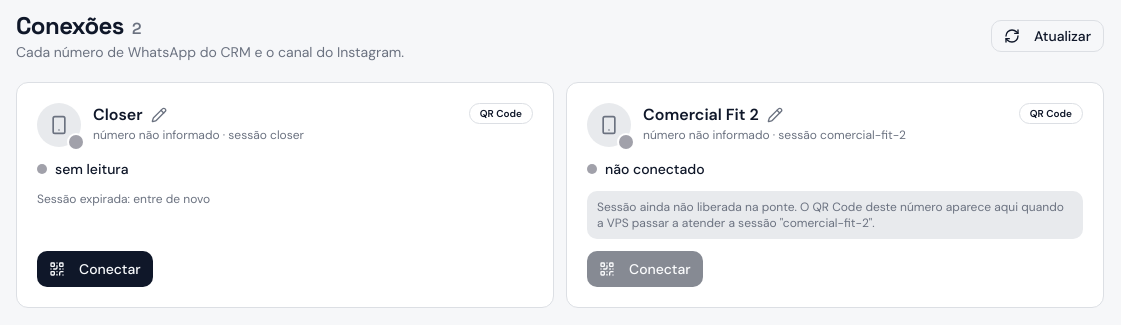
Test: /crm/conexoes: lápis no nome do cartão › edita inline, salva com Enter, atualiza o cartão e avisa Conversas
The image size is (1121, 325).
Click the button named "Editar nome de Comercial Fit 2": (775, 115) [763,103,787,127]
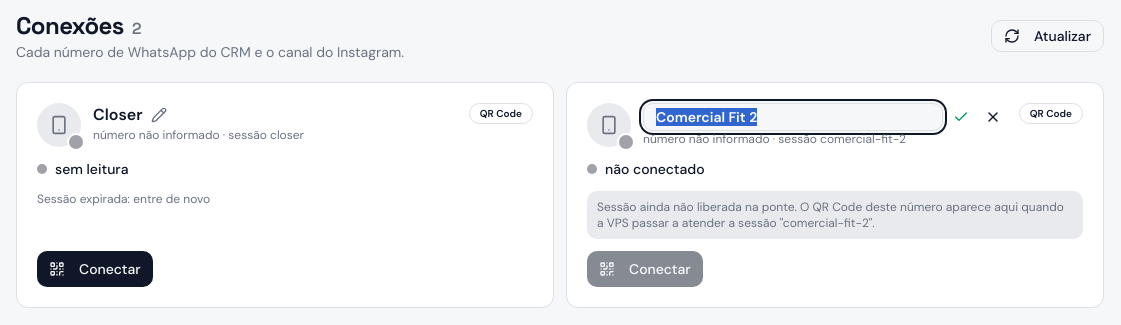
Expected: the field named "Nome do número" holds "Comercial Fit 2"
Replace the text in the field named "Nome do número" with "Vendas Fit": (793, 117) [643,103,943,131]
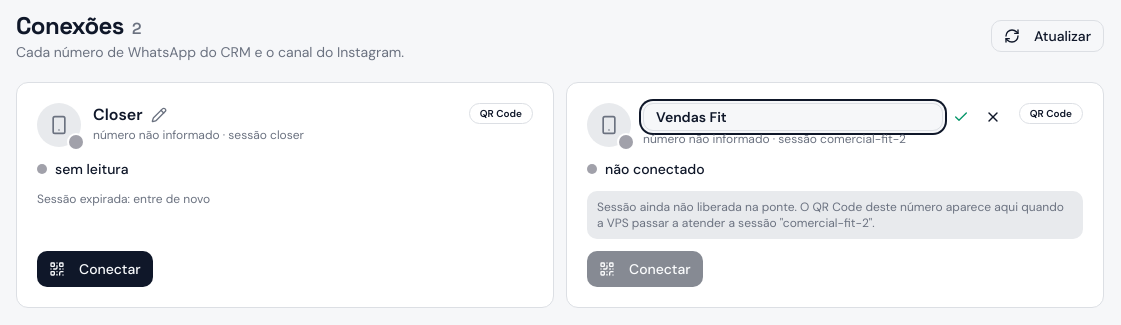
Press Enter in the field named "Nome do número", box [643,103,943,131]
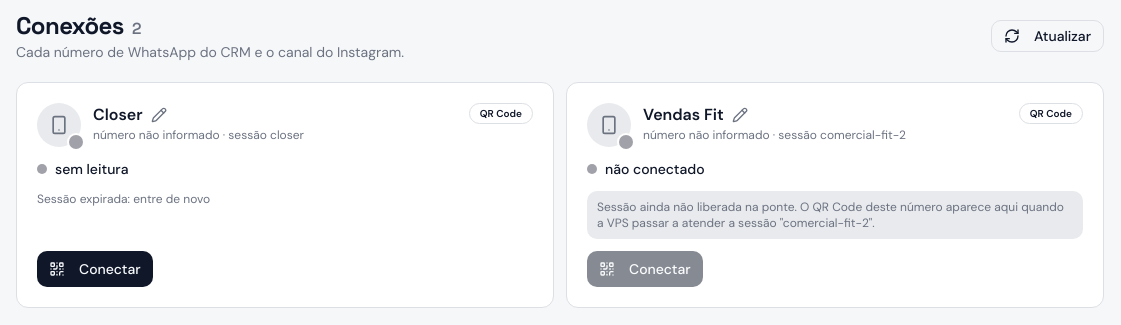
Expected: the text "número não informado · sessão comercial-fit-2" is shown, [643,127,906,143]
Expected: the text "Vendas Fit" is shown, [643,103,724,127]
